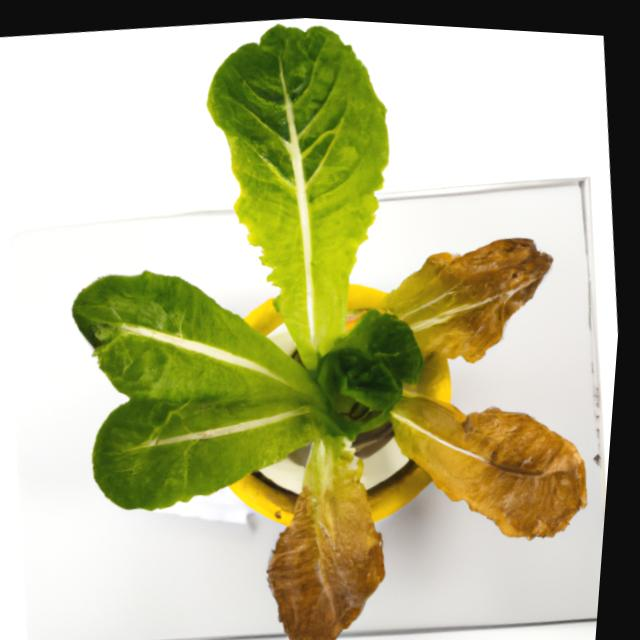-K: (0, 2, 640, 640)
